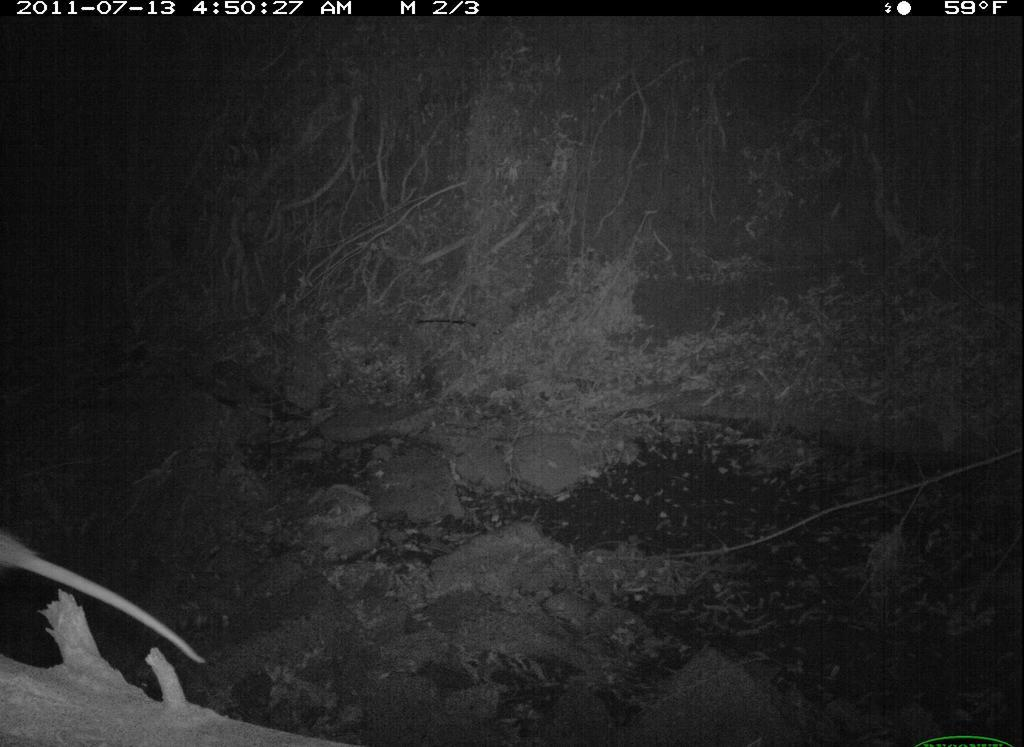opossum: (1, 529, 212, 676)
